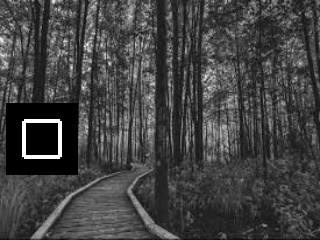square: (6, 103, 78, 175)
